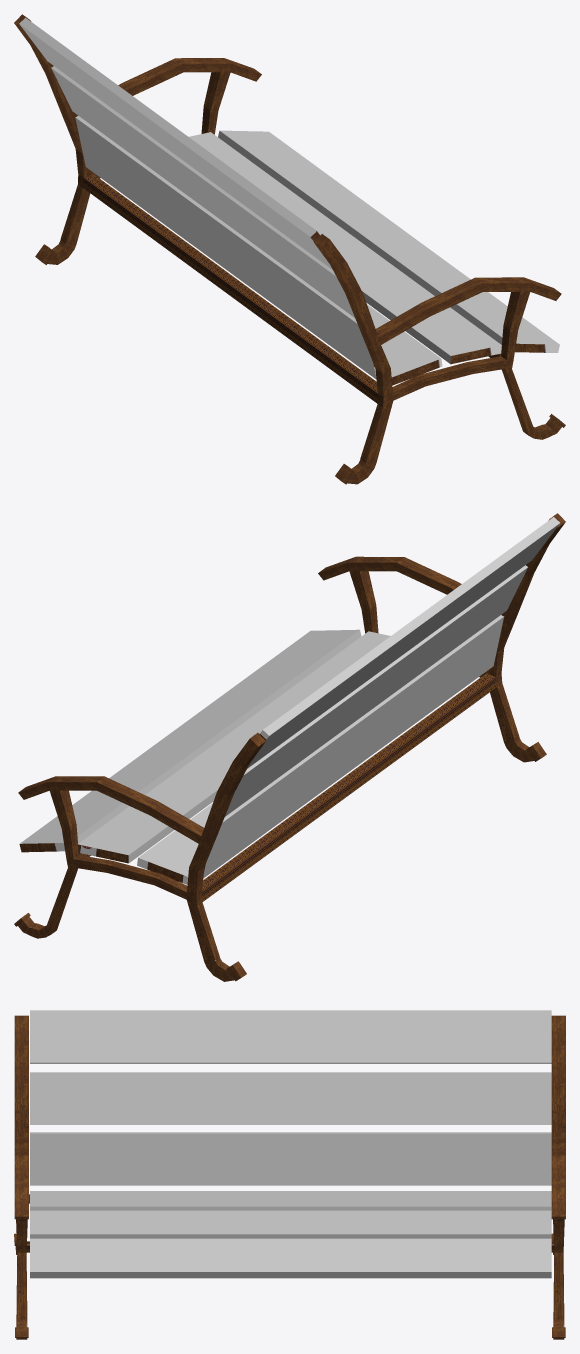
The model's file is bench.fbx.
3 renders of one model, top to bottom at view 1: azimuth 30°, elevation 25°; view 2: azimuth 150°, elevation 25°; view 3: azimuth 270°, elevation 25°, orthographic. The views are drawn at different scales.
Parts seen in each view (by area): view 1: Cube.002; view 2: Cube.002; view 3: Cube.002.
Boxes of the visible parts, x1=… form: Cube.002: x1=14, y1=14, x2=565, y2=484; Cube.002: x1=14, y1=513, x2=565, y2=981; Cube.002: x1=14, y1=1010, x2=565, y2=1339.
Size of the model in its own units: 201 by 197 by 429.
